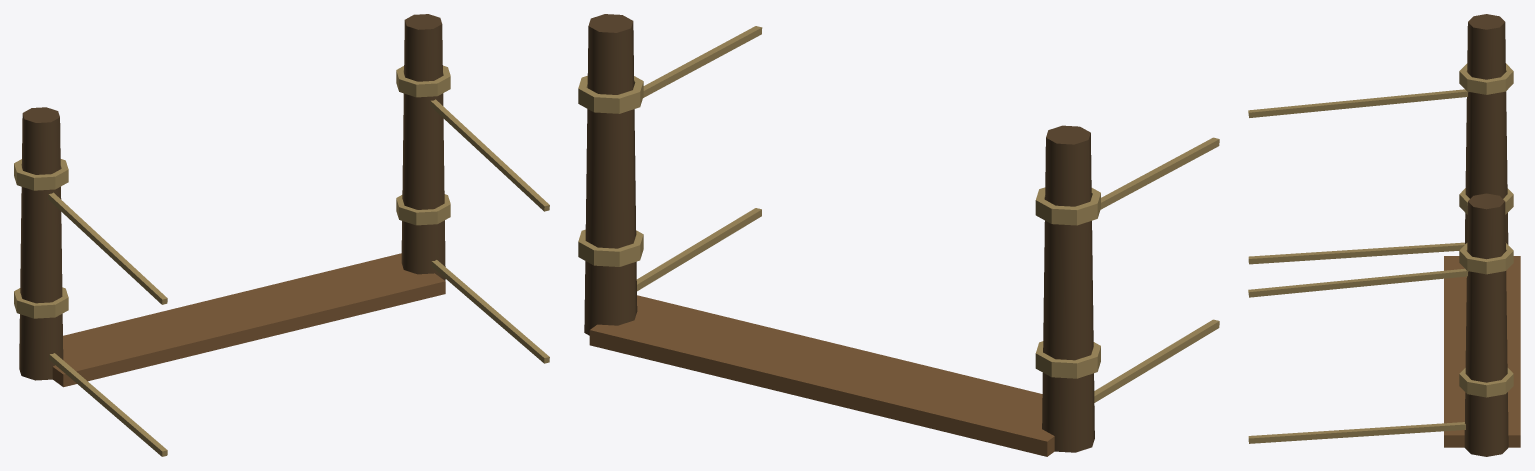
The model's file is jg_bridge_post.glb.
The picture shows the model from 3 angles, left to right: view 1: azimuth 30°, elevation 25°; view 2: azimuth 150°, elevation 25°; view 3: azimuth 270°, elevation 25°; orthographic projection. The views are drawn at different scales.
Parts seen in each view (by area): view 1: jg_bridge_post; view 2: jg_bridge_post; view 3: jg_bridge_post.
Part boxes in pixels (x1,y1,x2,y2): jg_bridge_post: [14, 14, 549, 456]; jg_bridge_post: [578, 14, 1219, 456]; jg_bridge_post: [1248, 14, 1520, 456].
Bounding box in the file's own units: 2.82 × 1.6 × 1.6.
